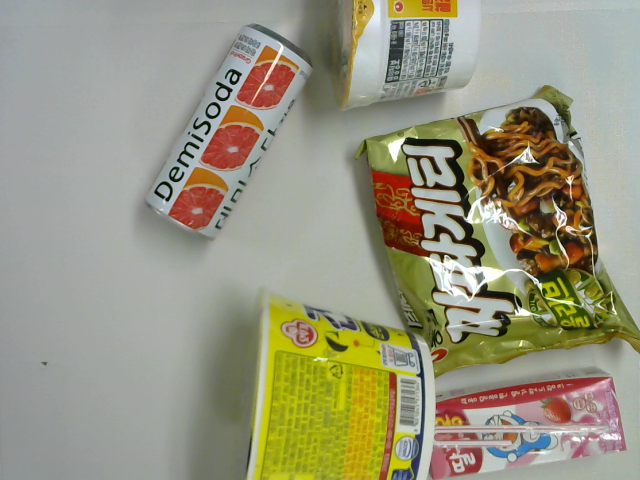Demisoda_Grapefruit_Can_250ml: (140, 20, 318, 245)
Hejangmini: (327, 1, 480, 116)
Jinlamyeon_Mild_Taste_Large_Cup: (242, 281, 440, 480)
Olive_Chapaghetti: (349, 84, 640, 373)
Strawberry_E_Mong: (426, 367, 629, 480)
